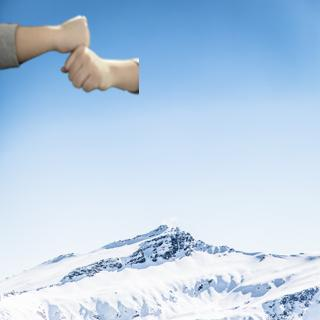CAREFUL: (17, 12, 138, 95)
